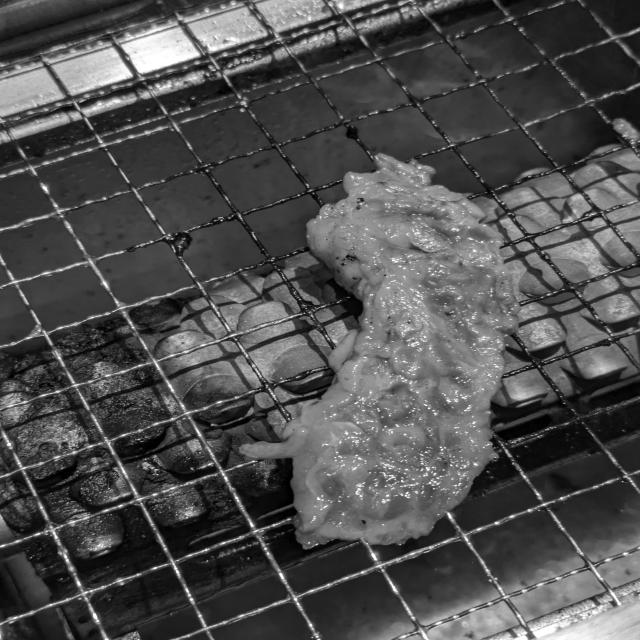NG undercooked beef,: (223, 136, 535, 550)
